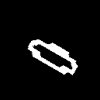chain: (28, 40, 77, 74)
